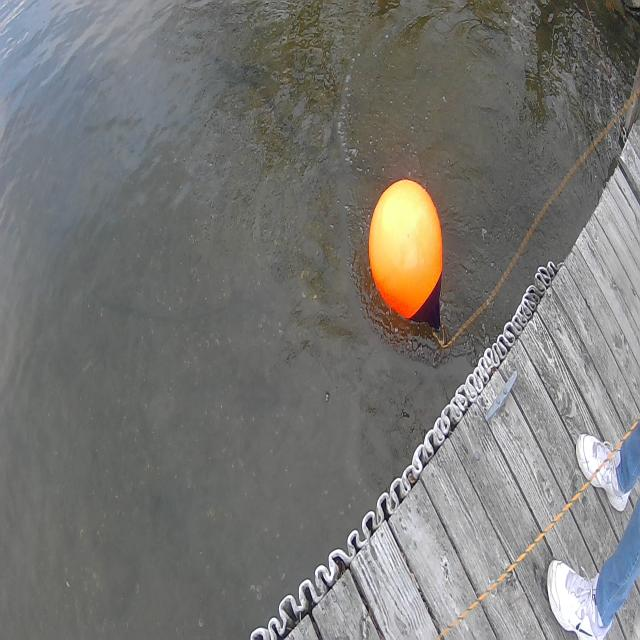Buoy: (360, 168, 459, 352)
